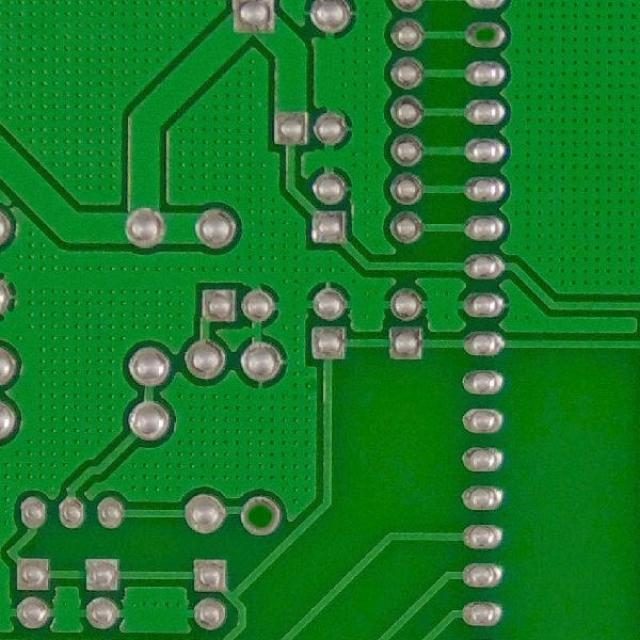Missing_Hole: (234, 496, 284, 538), (464, 20, 507, 49)
